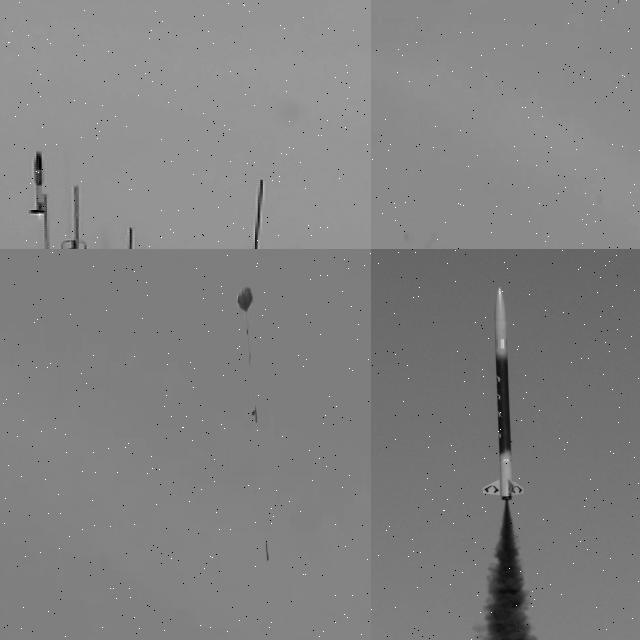Rocket: (482, 287, 526, 501), (28, 150, 48, 214), (266, 542, 269, 561), (617, 0, 621, 4)
